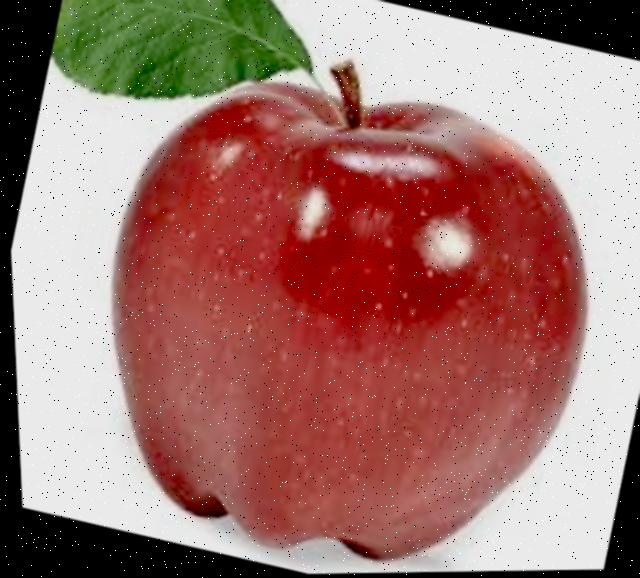HEALTHY: (48, 16, 640, 577)
